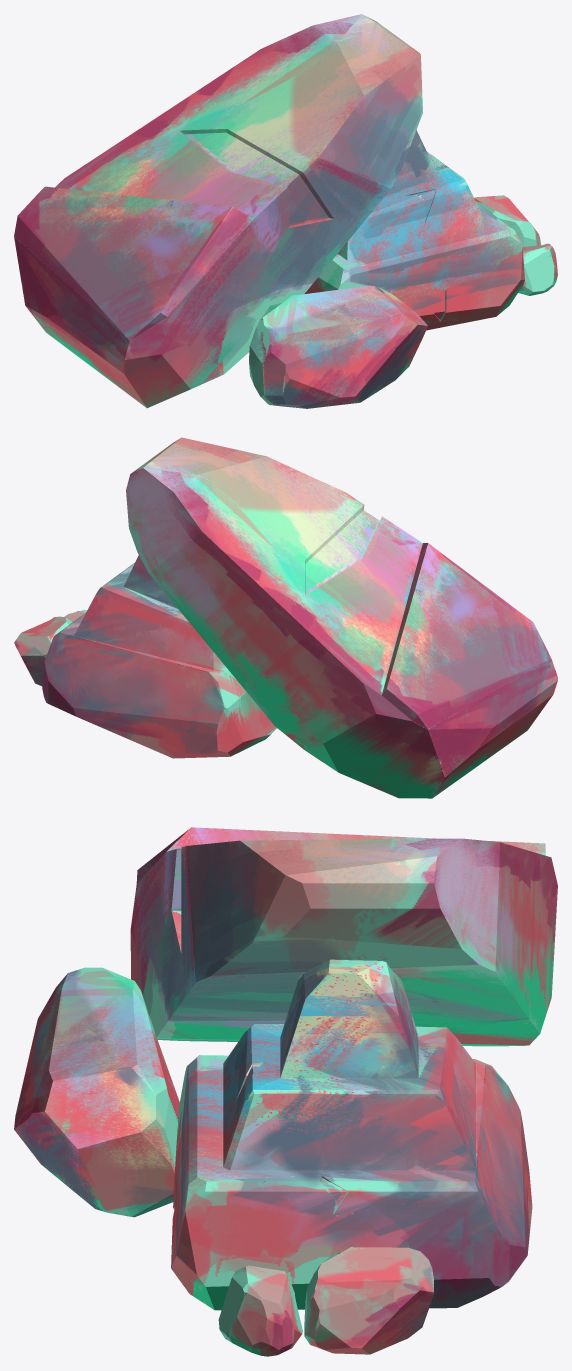
File: Rock_3.fbx
3 renders of one model, top to bottom at view 1: azimuth 30°, elevation 25°; view 2: azimuth 150°, elevation 25°; view 3: azimuth 270°, elevation 25°, orthographic. The views are drawn at different scales.
Visible parts, largest first — view 1: stone49; view 2: stone49; view 3: stone49.
Part boxes in pixels (box(x1,y1,x2,y2)): stone49: box(14, 14, 557, 408); stone49: box(14, 437, 557, 798); stone49: box(14, 827, 557, 1356).
Size of the model in its own units: 541 by 289 by 346.
